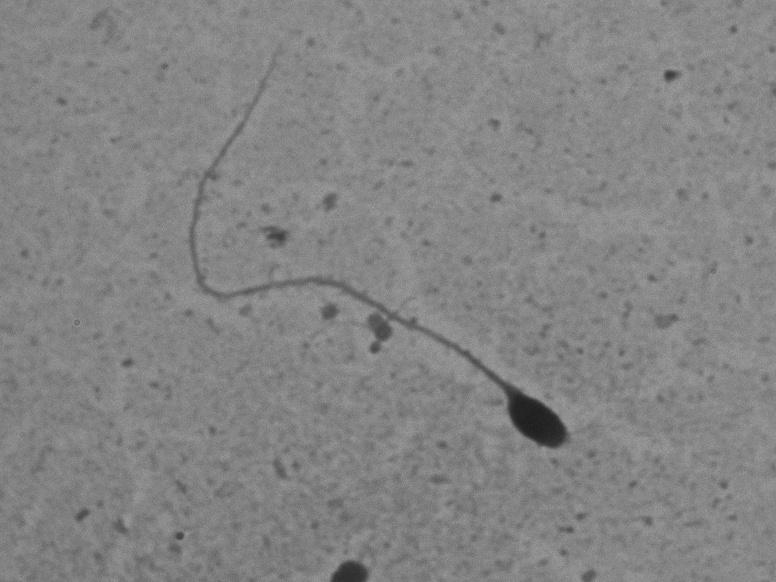Abnormal: (165, 40, 611, 486)
